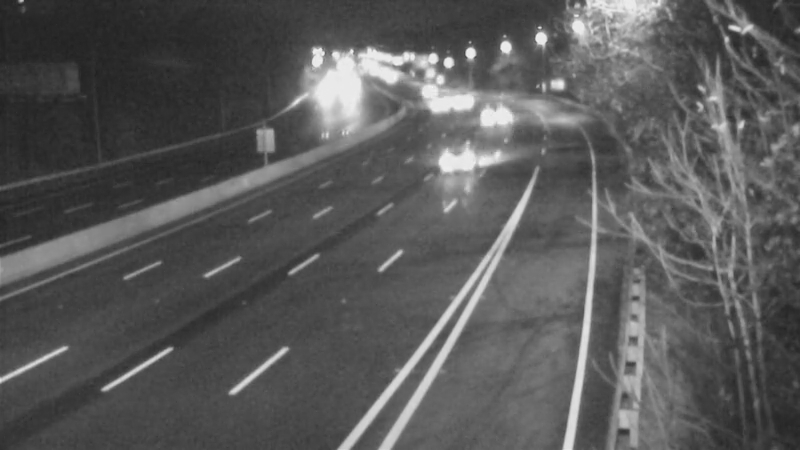vehicle: (408, 122, 488, 202), (439, 73, 489, 123), (406, 77, 456, 127), (470, 82, 520, 132)
